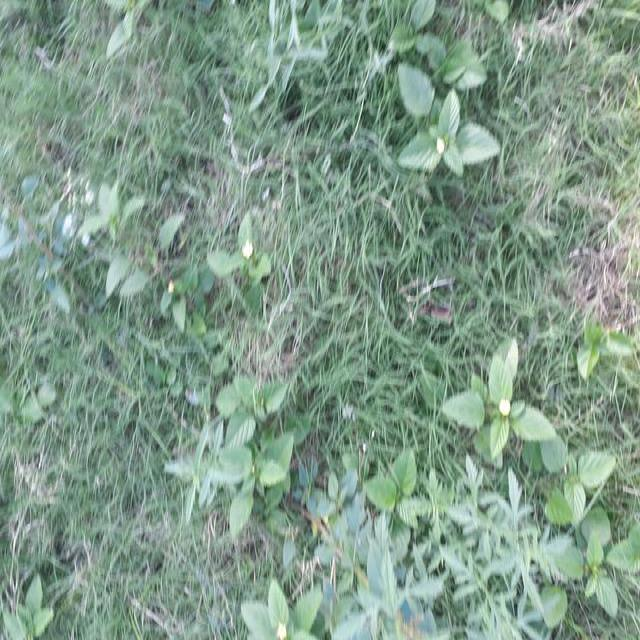weed: (0, 30, 283, 640), (313, 379, 640, 640), (296, 184, 640, 382), (304, 3, 618, 178)
